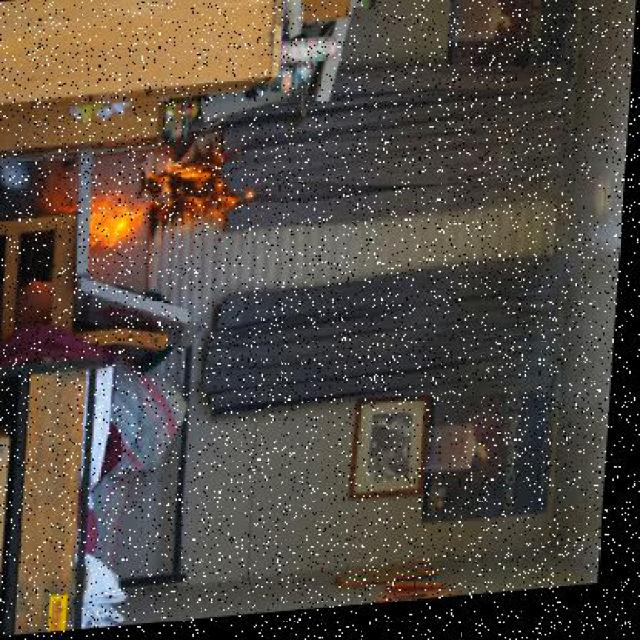fire: (172, 143, 272, 232), (82, 178, 175, 267)
